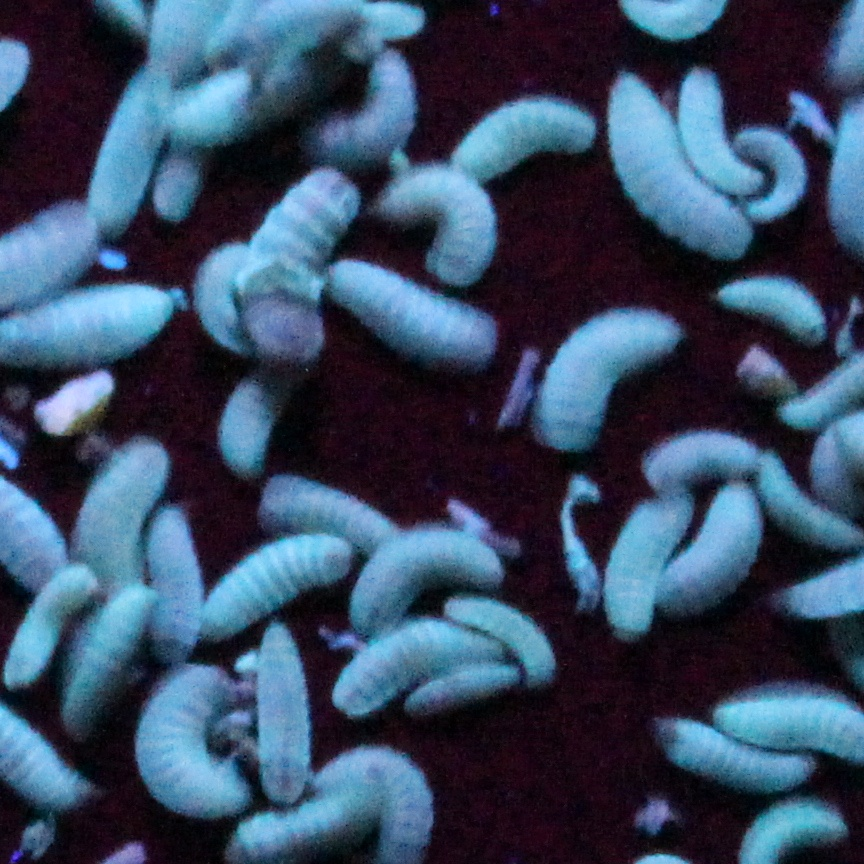larve: (613, 72, 754, 261), (535, 312, 682, 447), (329, 255, 501, 366), (125, 670, 250, 814), (337, 623, 505, 719), (0, 286, 180, 374), (196, 539, 345, 639), (70, 443, 168, 594), (349, 531, 503, 627), (60, 588, 158, 737), (380, 164, 498, 286), (601, 492, 696, 639), (656, 486, 762, 610), (305, 49, 419, 164), (90, 72, 168, 237), (456, 102, 598, 190), (654, 715, 811, 794), (674, 64, 764, 200), (172, 57, 303, 149), (250, 619, 313, 802), (9, 568, 96, 688), (262, 480, 396, 557), (217, 366, 294, 482), (147, 508, 201, 659), (717, 268, 825, 343), (643, 431, 768, 486), (737, 125, 813, 215), (405, 663, 523, 719), (156, 149, 200, 219)
